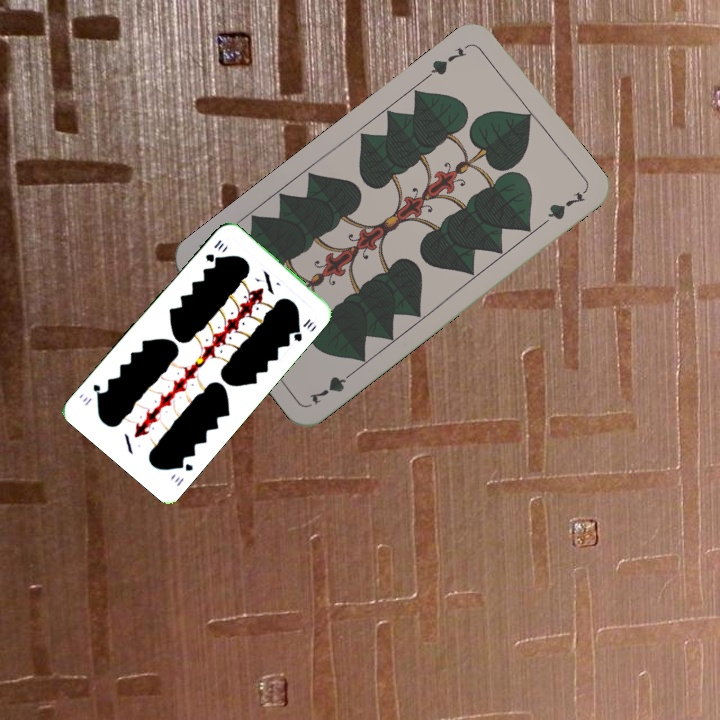G10: (170, 457, 196, 489), (201, 235, 226, 265)
G7: (305, 366, 358, 407), (422, 39, 473, 81)
